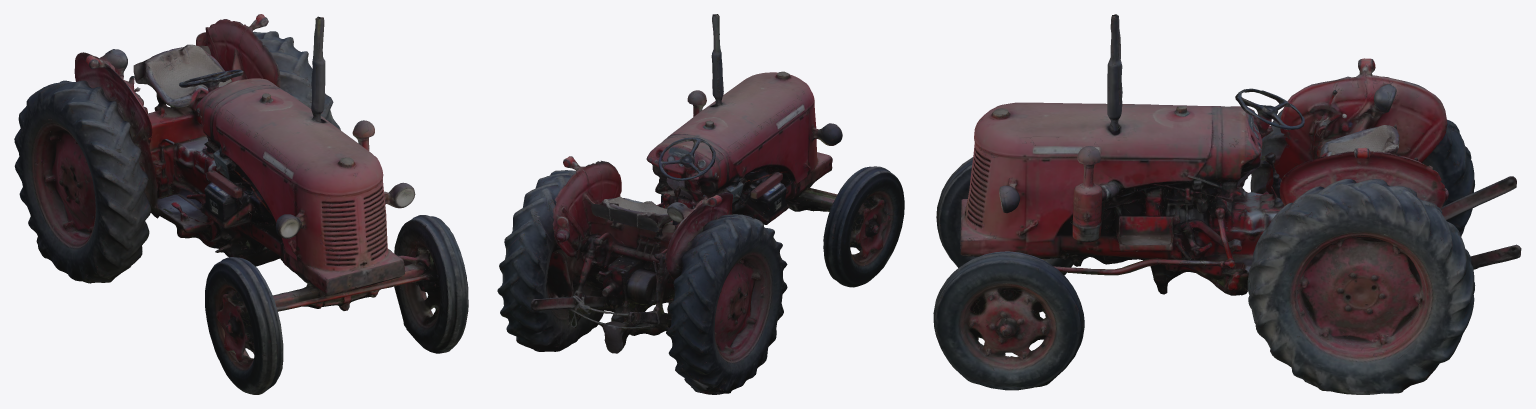
File: old_tractor.glb
3 views of the same model, side by side, from view 1: azimuth 30°, elevation 25°; view 2: azimuth 150°, elevation 25°; view 3: azimuth 270°, elevation 25° (orthographic). The views are drawn at different scales.
Parts seen in each view (by area): view 1: Object_2; view 2: Object_2; view 3: Object_2.
Part boxes in pixels (left/top/right/bottom): Object_2: left=14, top=14, right=468, bottom=394; Object_2: left=497, top=14, right=904, bottom=394; Object_2: left=933, top=14, right=1521, bottom=394.
Size of the model in its own units: 10.78 by 13.39 by 20.89.
Materials: 1 (1 with a texture image).
